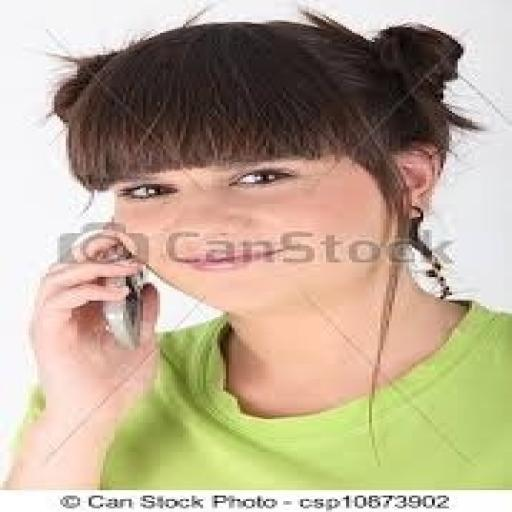calling: (3, 8, 509, 488)
